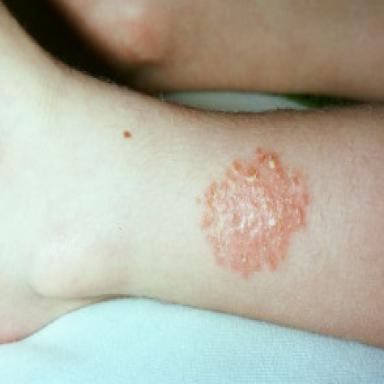eczema: (201, 148, 309, 277)
